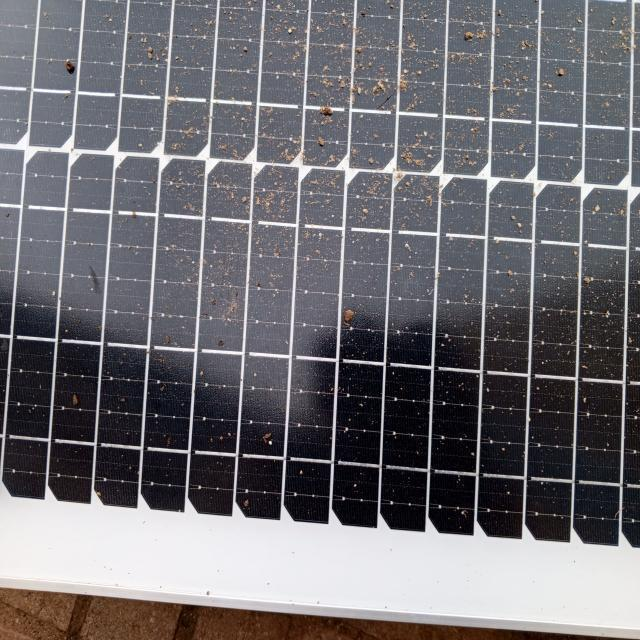Surface Contaminant: (101, 0, 638, 381)
